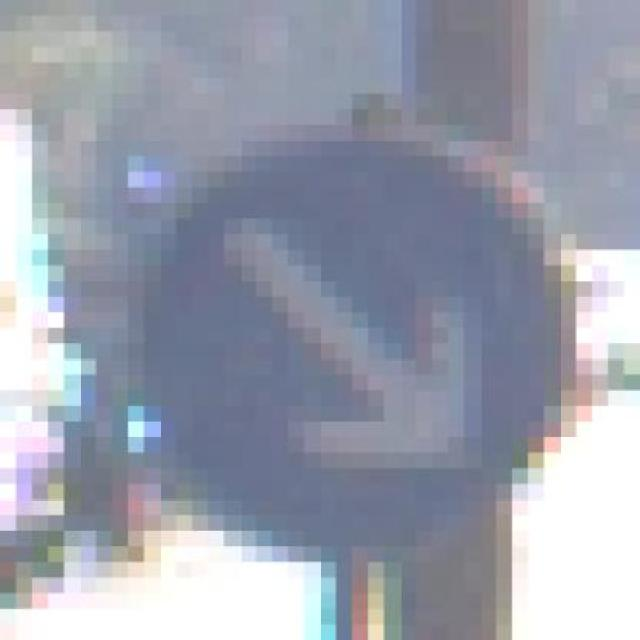Keep-Right: (80, 109, 592, 562)
